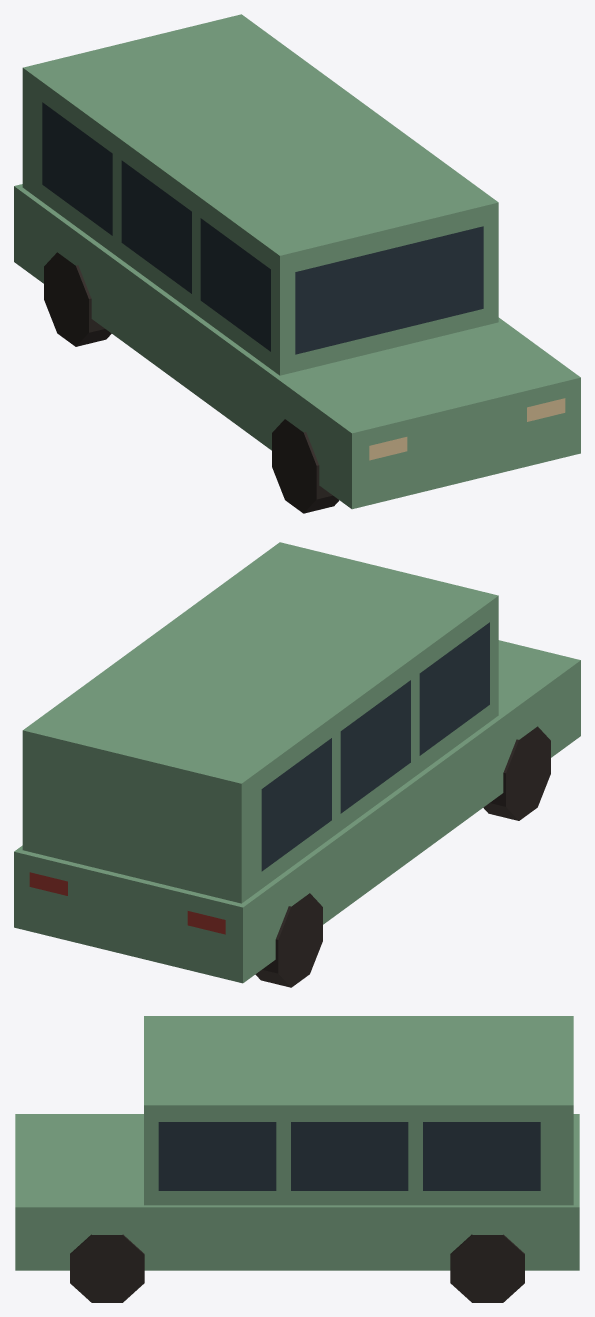
File: wagon.glb
3 views of the same model, one above another, from view 1: azimuth 30°, elevation 25°; view 2: azimuth 150°, elevation 25°; view 3: azimuth 270°, elevation 25° (orthographic). The views are drawn at different scales.
Size of the model in its own units: 1.84 by 1.75 by 4.62.
